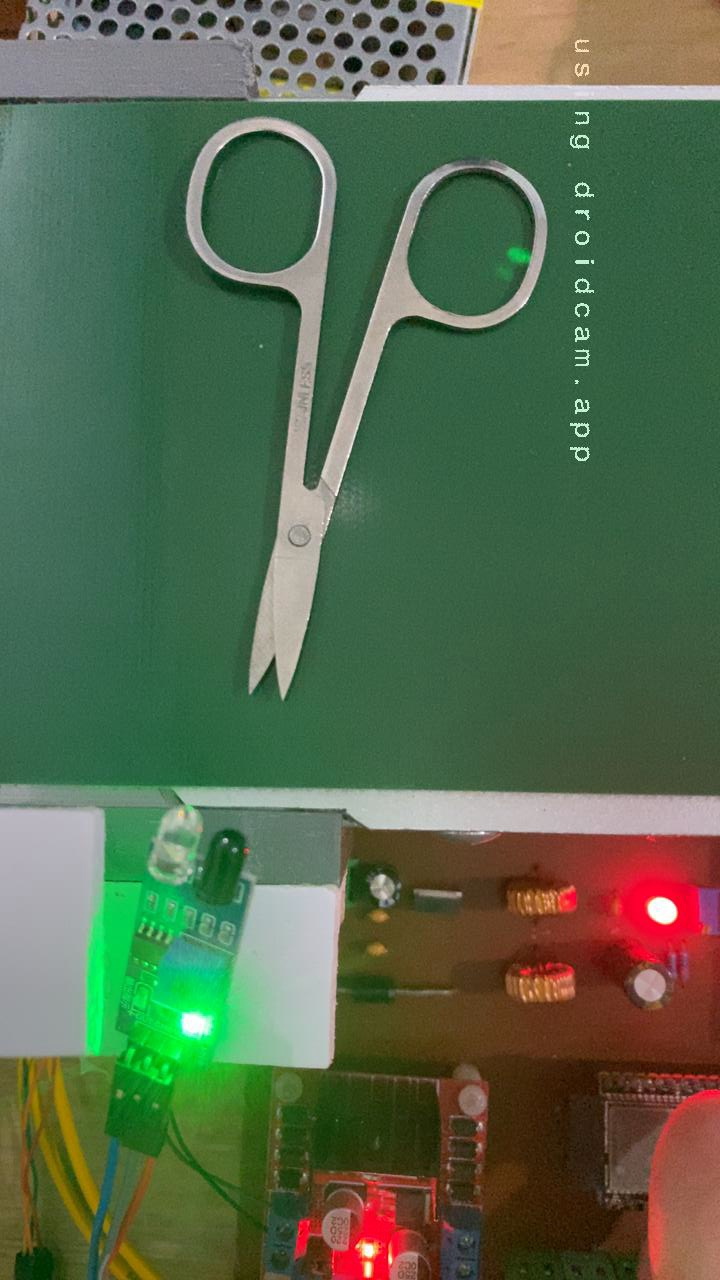scissor: (179, 110, 556, 702)
